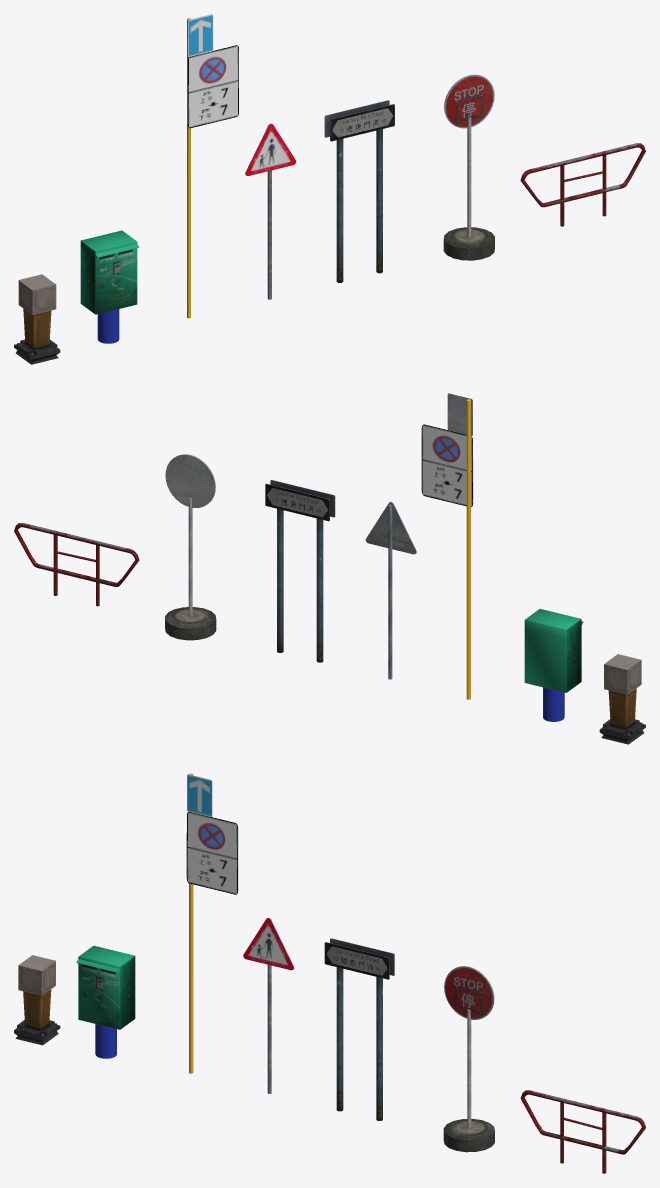
The model's file is HK_Traffic_Sign.fbx.
3 views of the same model, one above another, from view 1: azimuth 30°, elevation 25°; view 2: azimuth 150°, elevation 25°; view 3: azimuth 330°, elevation 25° (orthographic).
Visible parts, largest first — view 1: B_Traffic_2_006_101120_R_1, B_Public_0_024, B_Traffic_2_006_101120_R, SignsAObj, IndicatorAObj, B_Traffic_2_010_101120_R, FenceAObj_3; view 2: B_Traffic_2_006_101120_R_1, B_Public_0_024, B_Traffic_2_006_101120_R, SignsAObj, IndicatorAObj, B_Traffic_2_010_101120_R, FenceAObj_3; view 3: B_Traffic_2_006_101120_R_1, B_Public_0_024, B_Traffic_2_006_101120_R, SignsAObj, IndicatorAObj, B_Traffic_2_010_101120_R, FenceAObj_3.
Boxes of the visible parts, bbox=[...] form: B_Traffic_2_006_101120_R_1: bbox=[187, 14, 238, 318]; B_Public_0_024: bbox=[80, 230, 139, 343]; B_Traffic_2_006_101120_R: bbox=[443, 74, 494, 260]; SignsAObj: bbox=[324, 100, 394, 282]; IndicatorAObj: bbox=[14, 274, 60, 364]; B_Traffic_2_010_101120_R: bbox=[245, 123, 296, 299]; FenceAObj_3: bbox=[520, 143, 645, 226]; B_Traffic_2_006_101120_R_1: bbox=[421, 393, 473, 699]; B_Public_0_024: bbox=[524, 609, 583, 721]; B_Traffic_2_006_101120_R: bbox=[165, 454, 216, 640]; SignsAObj: bbox=[265, 480, 335, 662]; IndicatorAObj: bbox=[599, 654, 645, 744]; B_Traffic_2_010_101120_R: bbox=[365, 502, 416, 679]; FenceAObj_3: bbox=[14, 523, 139, 606]; B_Traffic_2_006_101120_R_1: bbox=[186, 773, 238, 1073]; B_Public_0_024: bbox=[76, 945, 135, 1058]; B_Traffic_2_006_101120_R: bbox=[443, 966, 494, 1152]; SignsAObj: bbox=[324, 938, 394, 1120]; IndicatorAObj: bbox=[14, 955, 60, 1045]; B_Traffic_2_010_101120_R: bbox=[243, 917, 294, 1093]; FenceAObj_3: bbox=[520, 1090, 645, 1173].
Size of the model in its own units: 342 by 158 by 24.54.
Materials: 16 (16 with a texture image).
